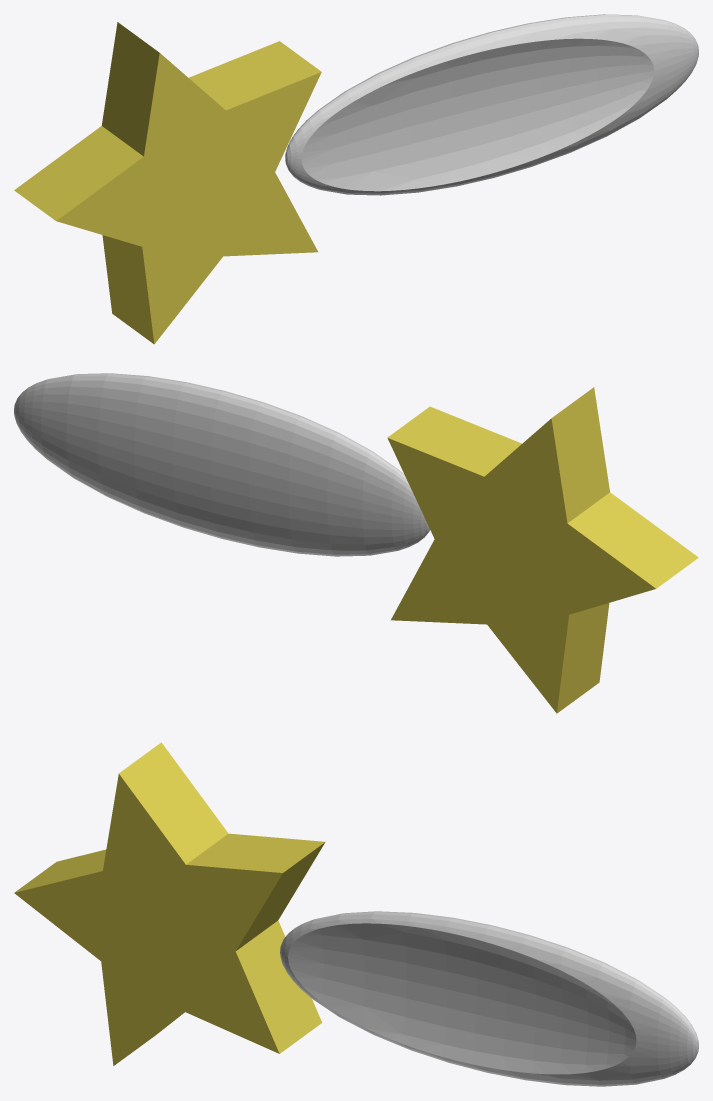
File: shooting_star.glb
3 views of the same model, one above another, from view 1: azimuth 30°, elevation 25°; view 2: azimuth 150°, elevation 25°; view 3: azimuth 330°, elevation 25° (orthographic).
Parts seen in each view (by area): view 1: Mesh_Mesh_head_geo.001_lambert2SG.001; view 2: Mesh_Mesh_head_geo.001_lambert2SG.001; view 3: Mesh_Mesh_head_geo.001_lambert2SG.001.
Part boxes in pixels (left/top/right/bottom): Mesh_Mesh_head_geo.001_lambert2SG.001: left=14, top=14, right=698, bottom=344; Mesh_Mesh_head_geo.001_lambert2SG.001: left=14, top=373, right=698, bottom=713; Mesh_Mesh_head_geo.001_lambert2SG.001: left=14, top=742, right=698, bottom=1086.
Bounding box in the file's own units: 90.34 × 38.04 × 10.
